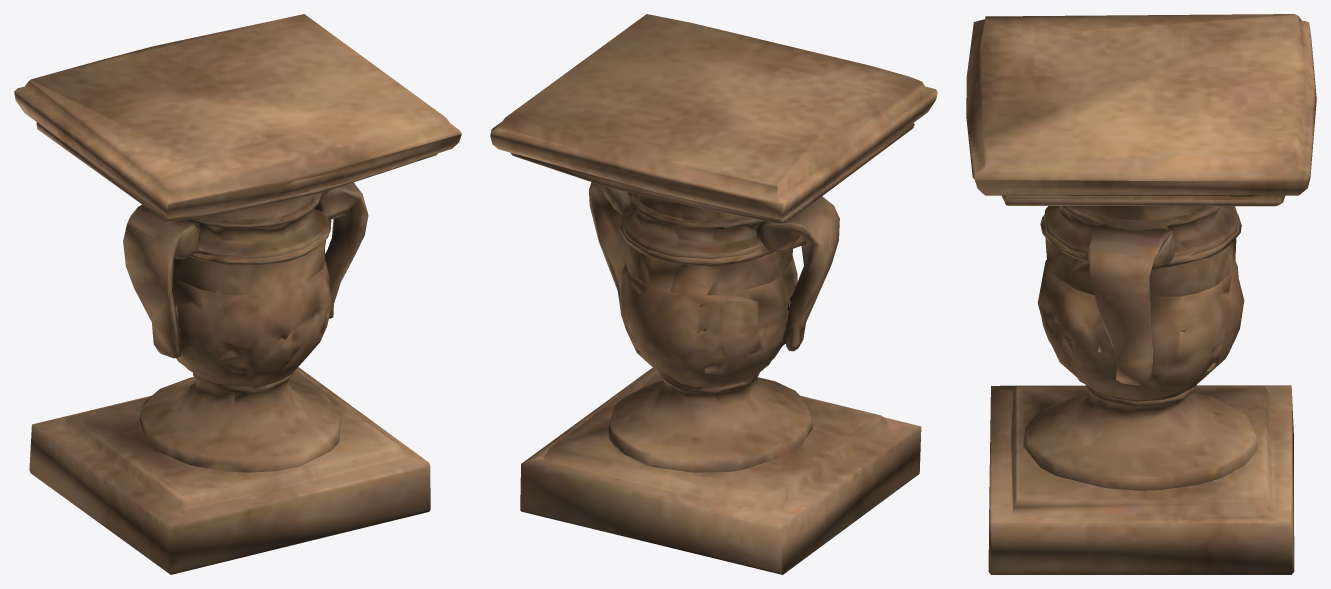
The model's file is ornate-sandstone-urn-v001.glb.
The picture shows the model from 3 angles, left to right: view 1: azimuth 30°, elevation 25°; view 2: azimuth 150°, elevation 25°; view 3: azimuth 270°, elevation 25°; orthographic projection. The views are drawn at different scales.
Visible parts, largest first — view 1: ornate-sandstone-urn; view 2: ornate-sandstone-urn; view 3: ornate-sandstone-urn.
Boxes of the visible parts, x1,y1,x2,y2 form: ornate-sandstone-urn: [14, 14, 461, 574]; ornate-sandstone-urn: [490, 14, 937, 574]; ornate-sandstone-urn: [966, 14, 1316, 574].
Bounding box in the file's own units: 0.7826 × 0.9972 × 0.7453.
Materials: 1 (1 with a texture image).
